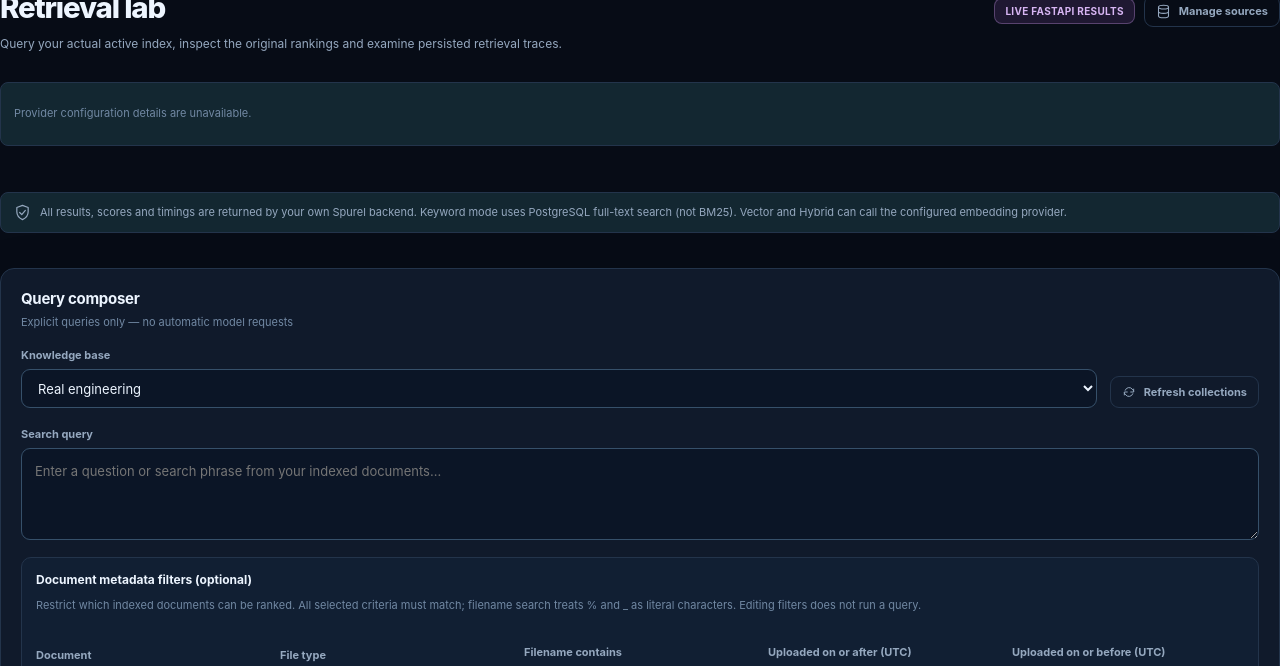
Test case: live retrieval lab › runs an authenticated keyword request and shows raw FTS scores and trace id
Replace the text in the text box labelled "Search query" with "passwordless sessions" at (640, 494), box [21, 448, 1259, 540]
(page scrolled)
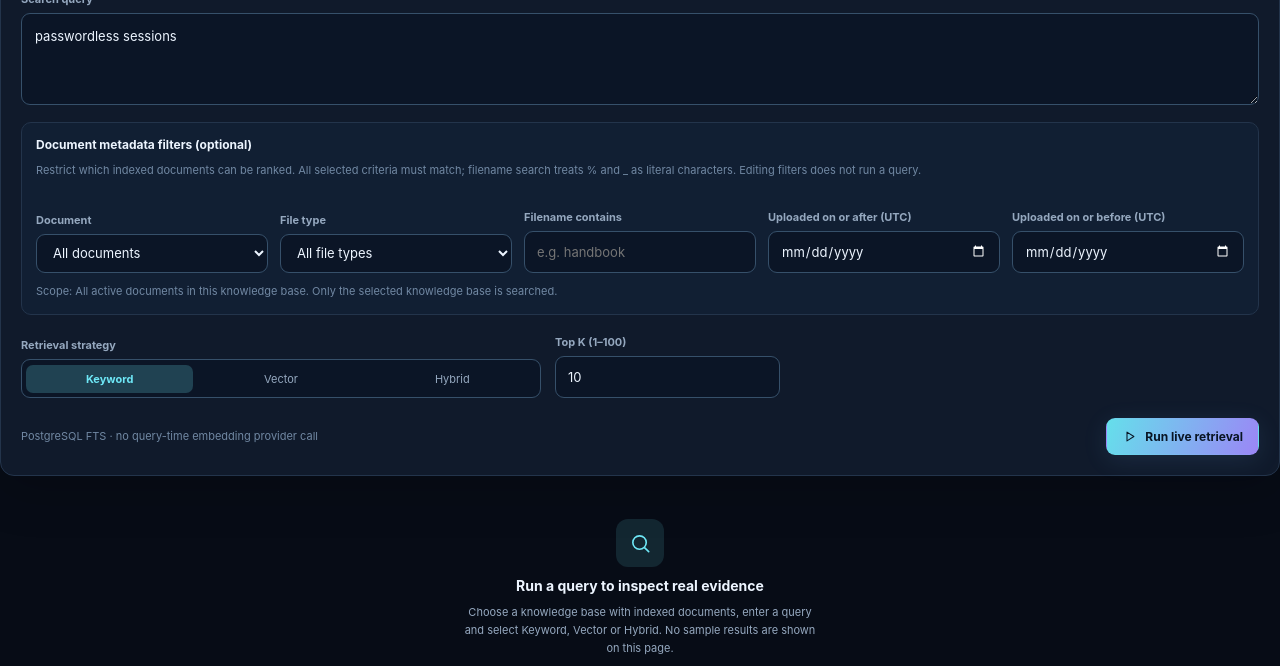
Click the button "Run live retrieval" at (1183, 437), box [1106, 418, 1259, 455]
(page scrolled)
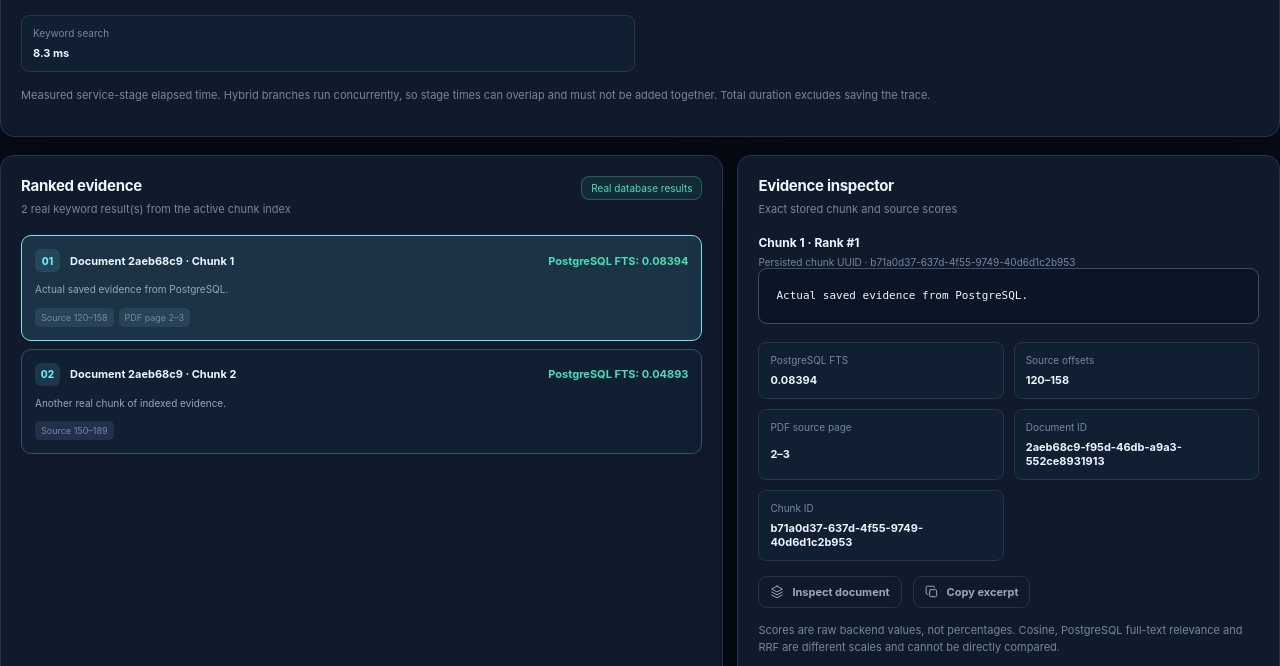
Check: the text "PDF page 2–3" is shown, box [119, 308, 190, 327]
Check: the number of buttons with class "evidence-result" is 2
Check: the text "PostgreSQL FTS: 0.08394" is shown, box [548, 254, 688, 268]
Click the 2nd button with class "evidence-result" at (99, 374), box [21, 349, 702, 454]
(page scrolled)
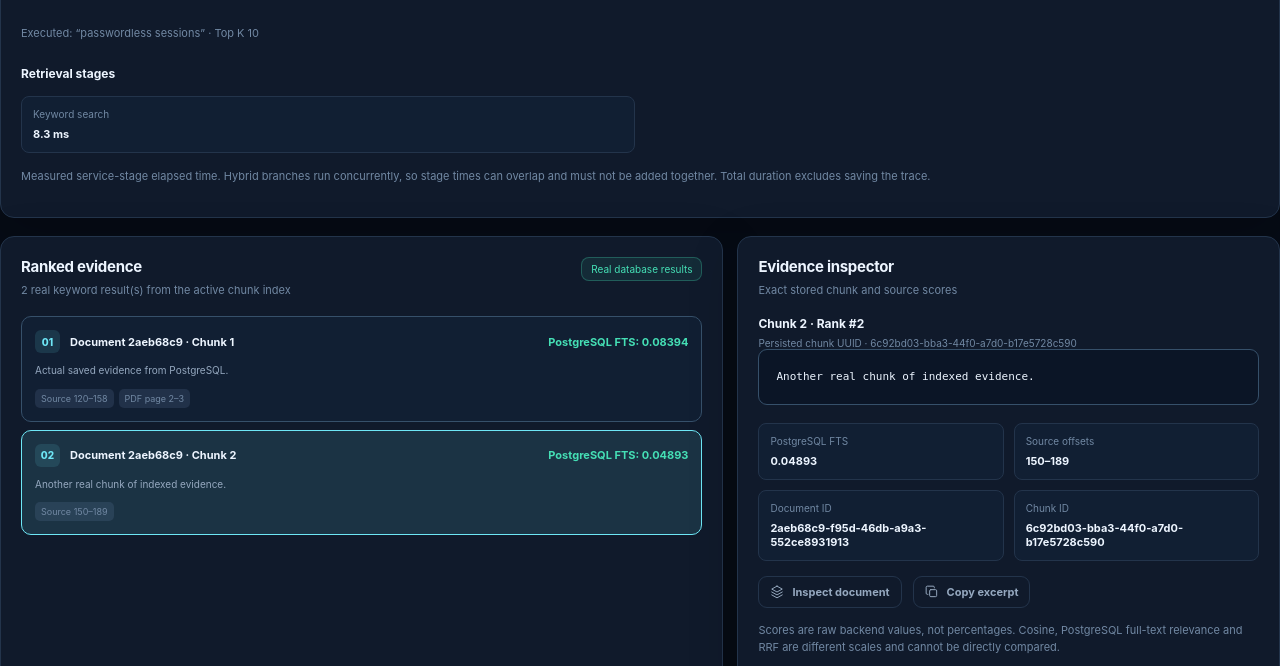
Check: the text "6c92bd03-bba3-44f0-a7d0-b17e5728c590" is shown, box [1026, 521, 1183, 549]
